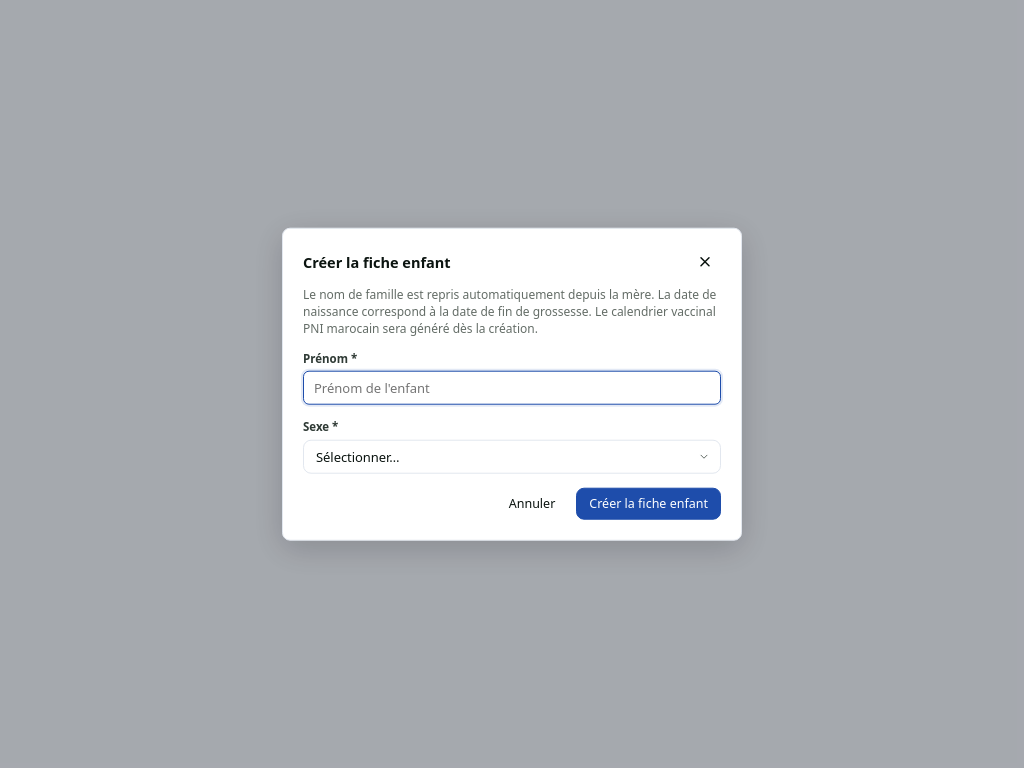
Scenario: CreateChildDialog — sex required › shows error when sex is missing
This screenshot has width=1024, height=768.
Type "Yassine" into the field labelled "Prénom *". click: x=512, y=388
box: [303, 371, 721, 405]
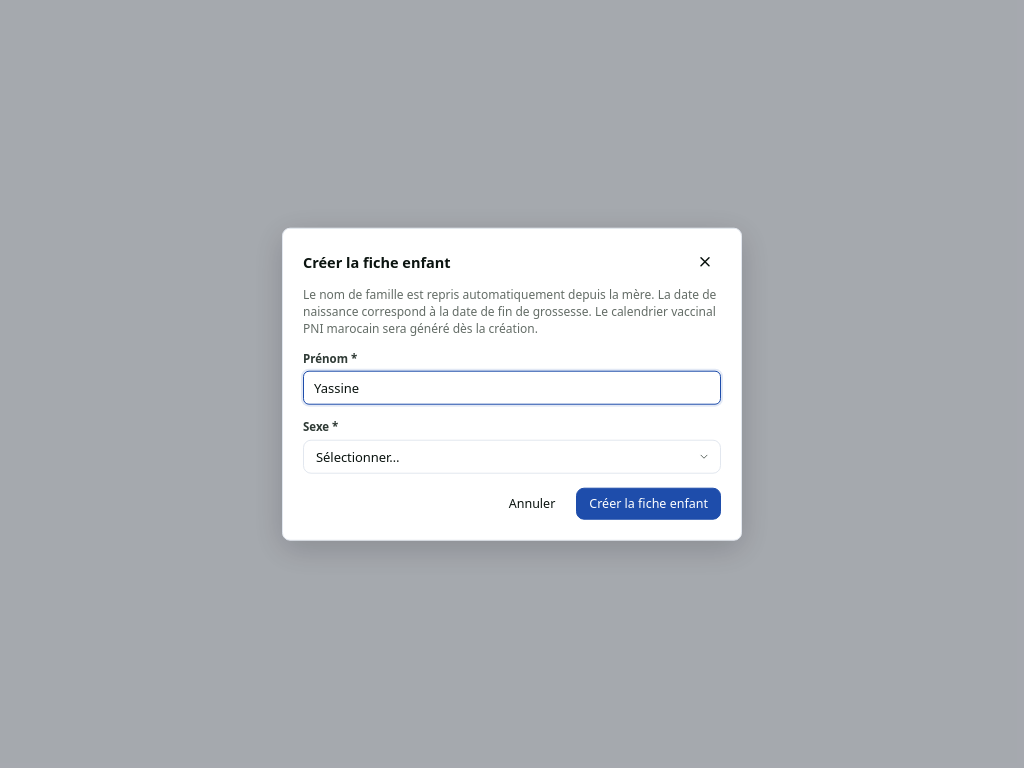
Submit the form labelled "Prénom * Sexe * Sélectionner… Annuler Créer la fiche enfant", box [303, 351, 721, 519]
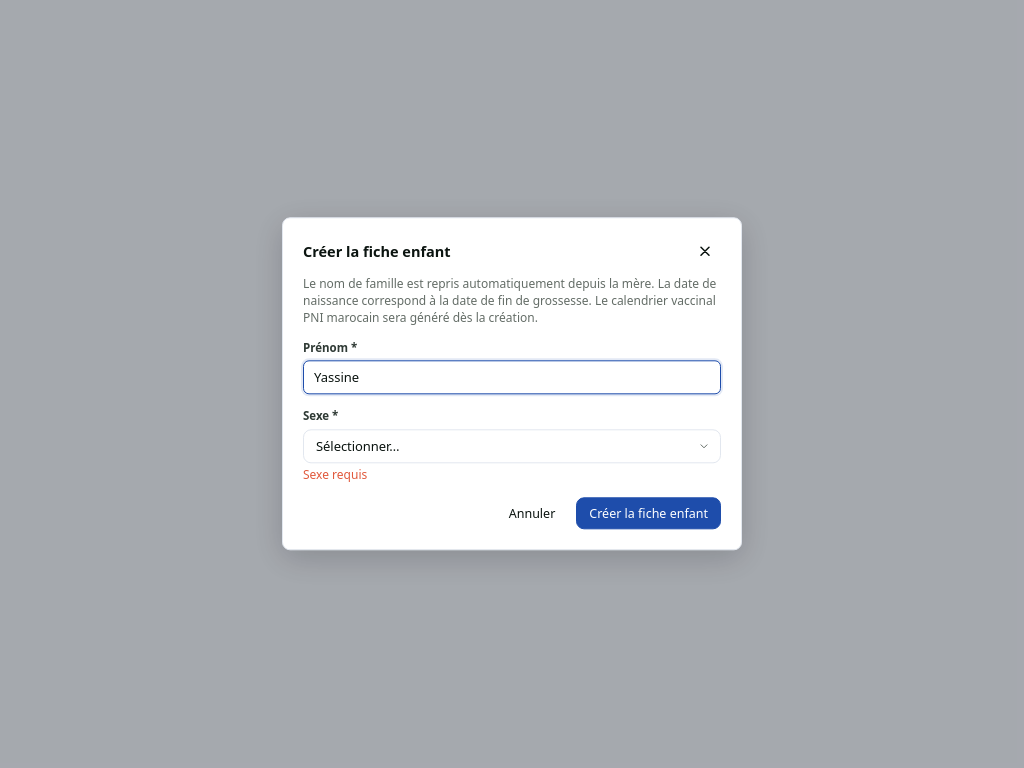
Result: the text "Sexe requis" is shown at [303, 466, 367, 483]
